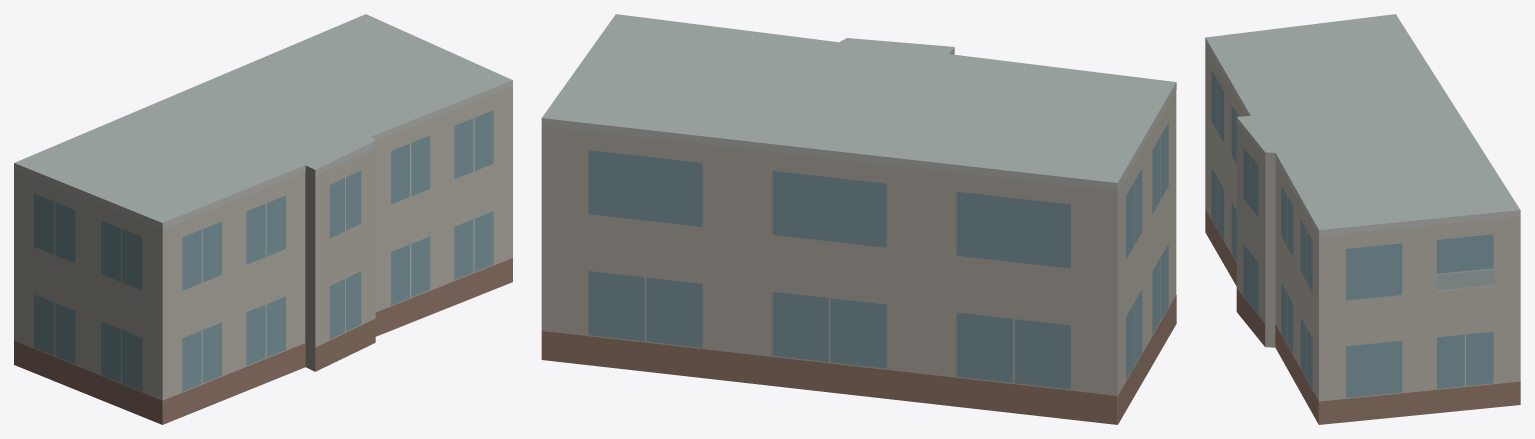
File: survey-upis-32619560.glb
3 renders of one model, left to right at view 1: azimuth 30°, elevation 25°; view 2: azimuth 150°, elevation 25°; view 3: azimuth 270°, elevation 25°, orthographic. The views are drawn at different scales.
Parts seen in each view (by area): view 1: survey-upis-32619560.tmp; view 2: survey-upis-32619560.tmp; view 3: survey-upis-32619560.tmp.
Boxes of the visible parts, x1,y1,x2,y2 form: survey-upis-32619560.tmp: [14, 14, 512, 424]; survey-upis-32619560.tmp: [541, 14, 1176, 424]; survey-upis-32619560.tmp: [1205, 14, 1520, 424].
Size of the model in its own units: 18.33 by 7.7 by 11.3.
